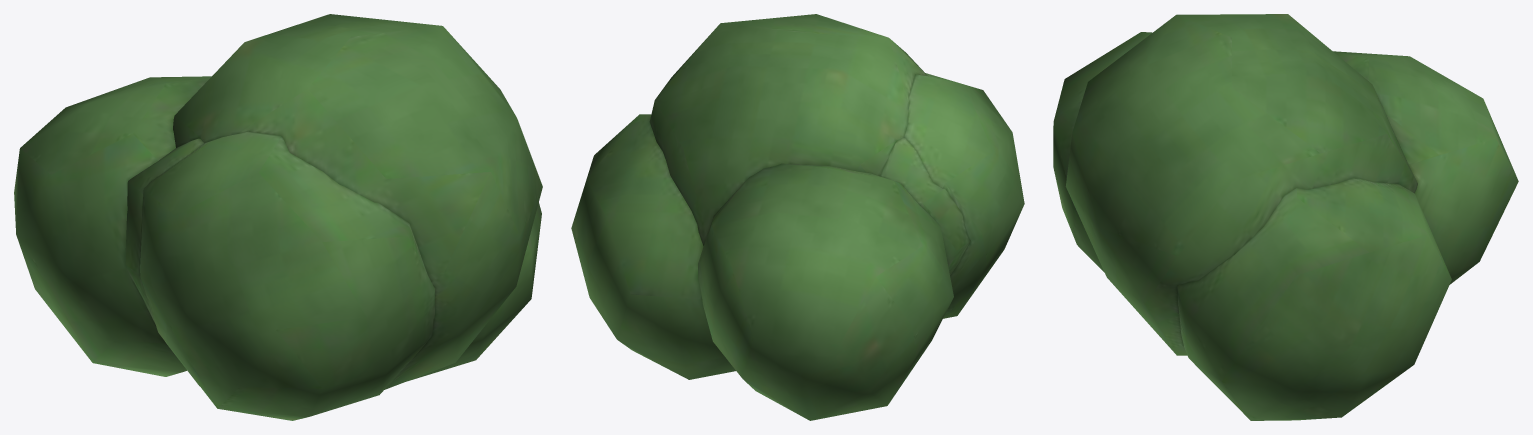
Rendered from bush.glb.
The picture shows the model from 3 angles, left to right: view 1: azimuth 30°, elevation 25°; view 2: azimuth 150°, elevation 25°; view 3: azimuth 270°, elevation 25°; orthographic projection. The views are drawn at different scales.
Visible parts, largest first — view 1: bush; view 2: bush; view 3: bush.
Boxes of the visible parts, <box> form: bush: <box>14,14,542,420</box>; bush: <box>571,14,1024,420</box>; bush: <box>1053,14,1518,420</box>.
Bounding box in the file's own units: 1.75 × 1.49 × 1.79.
Materials: 1 (1 with a texture image).
